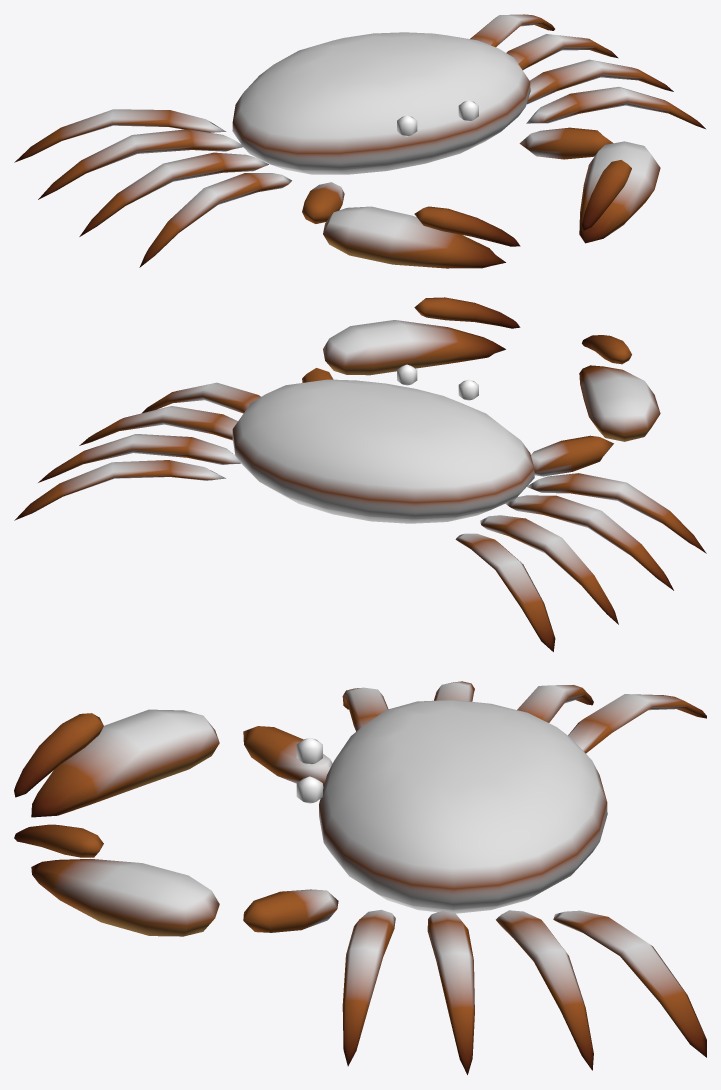
File: RAW_crab.fbx
3 views of the same model, one above another, from view 1: azimuth 30°, elevation 25°; view 2: azimuth 150°, elevation 25°; view 3: azimuth 270°, elevation 25° (orthographic). The views are drawn at different scales.
Parts seen in each view (by area): view 1: RAW_crab; view 2: RAW_crab; view 3: RAW_crab.
Boxes of the visible parts, x1=… form: RAW_crab: x1=14, y1=14, x2=705, y2=268; RAW_crab: x1=14, y1=297, x2=706, y2=651; RAW_crab: x1=14, y1=681, x2=706, y2=1074.
Size of the model in its own units: 0.1641 by 0.0294 by 0.1283.
